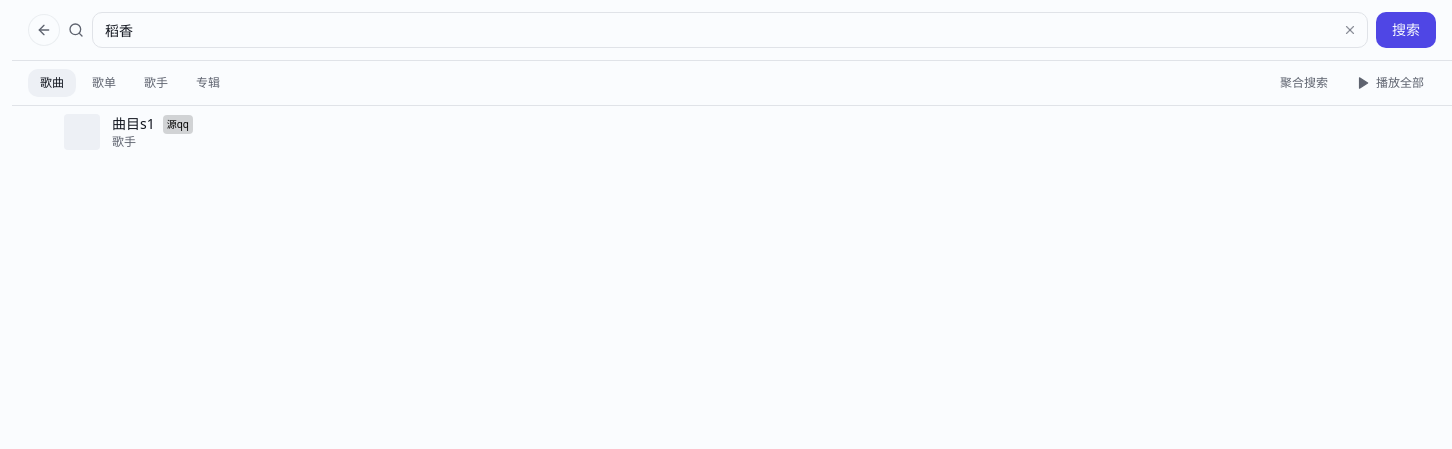
Test: 搜索页页签切换（URL 驱动的真实路由） › 连续切换多个页签，每次都以最新页签为准（不留上一个页签的结果）
This screenshot has width=1452, height=449.
# 用 role 而不是文本：「歌手」既是页签名，也是 TrackRow 里的歌手列文本
Click the button "歌手" at point(156, 83), box [132,69,180,97]
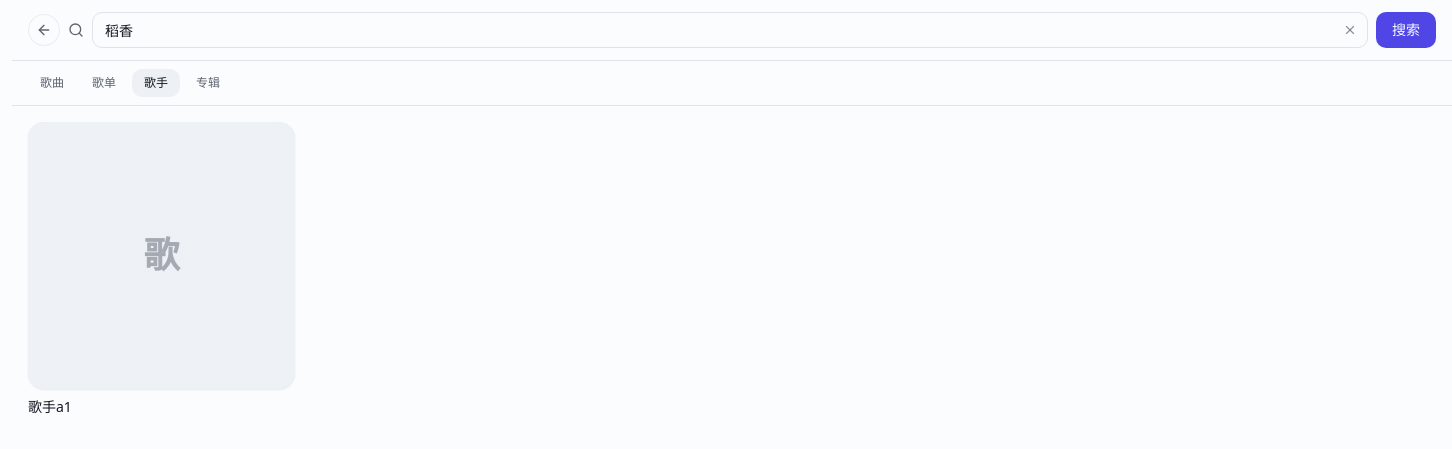
Expected: the text "歌手a1" is shown, [28,397,72,416]
Expected: the text "曲目s1" is gone
Click the button "专辑" at point(208, 83), box [184,69,232,97]
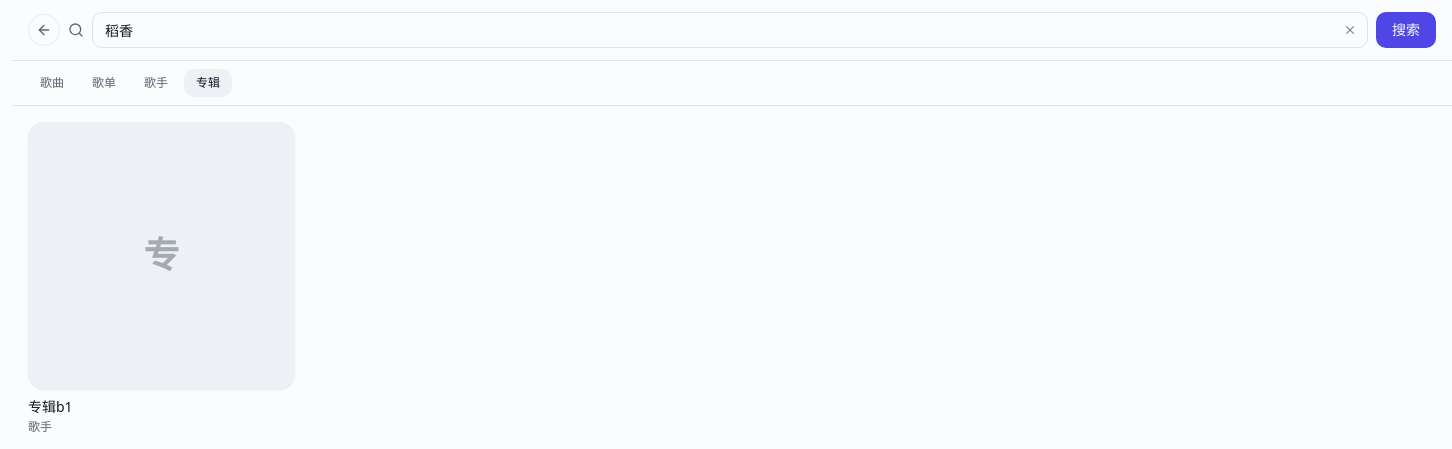
Expected: the text "专辑b1" is shown, [28,397,73,416]
Expected: the text "歌手a1" is gone
